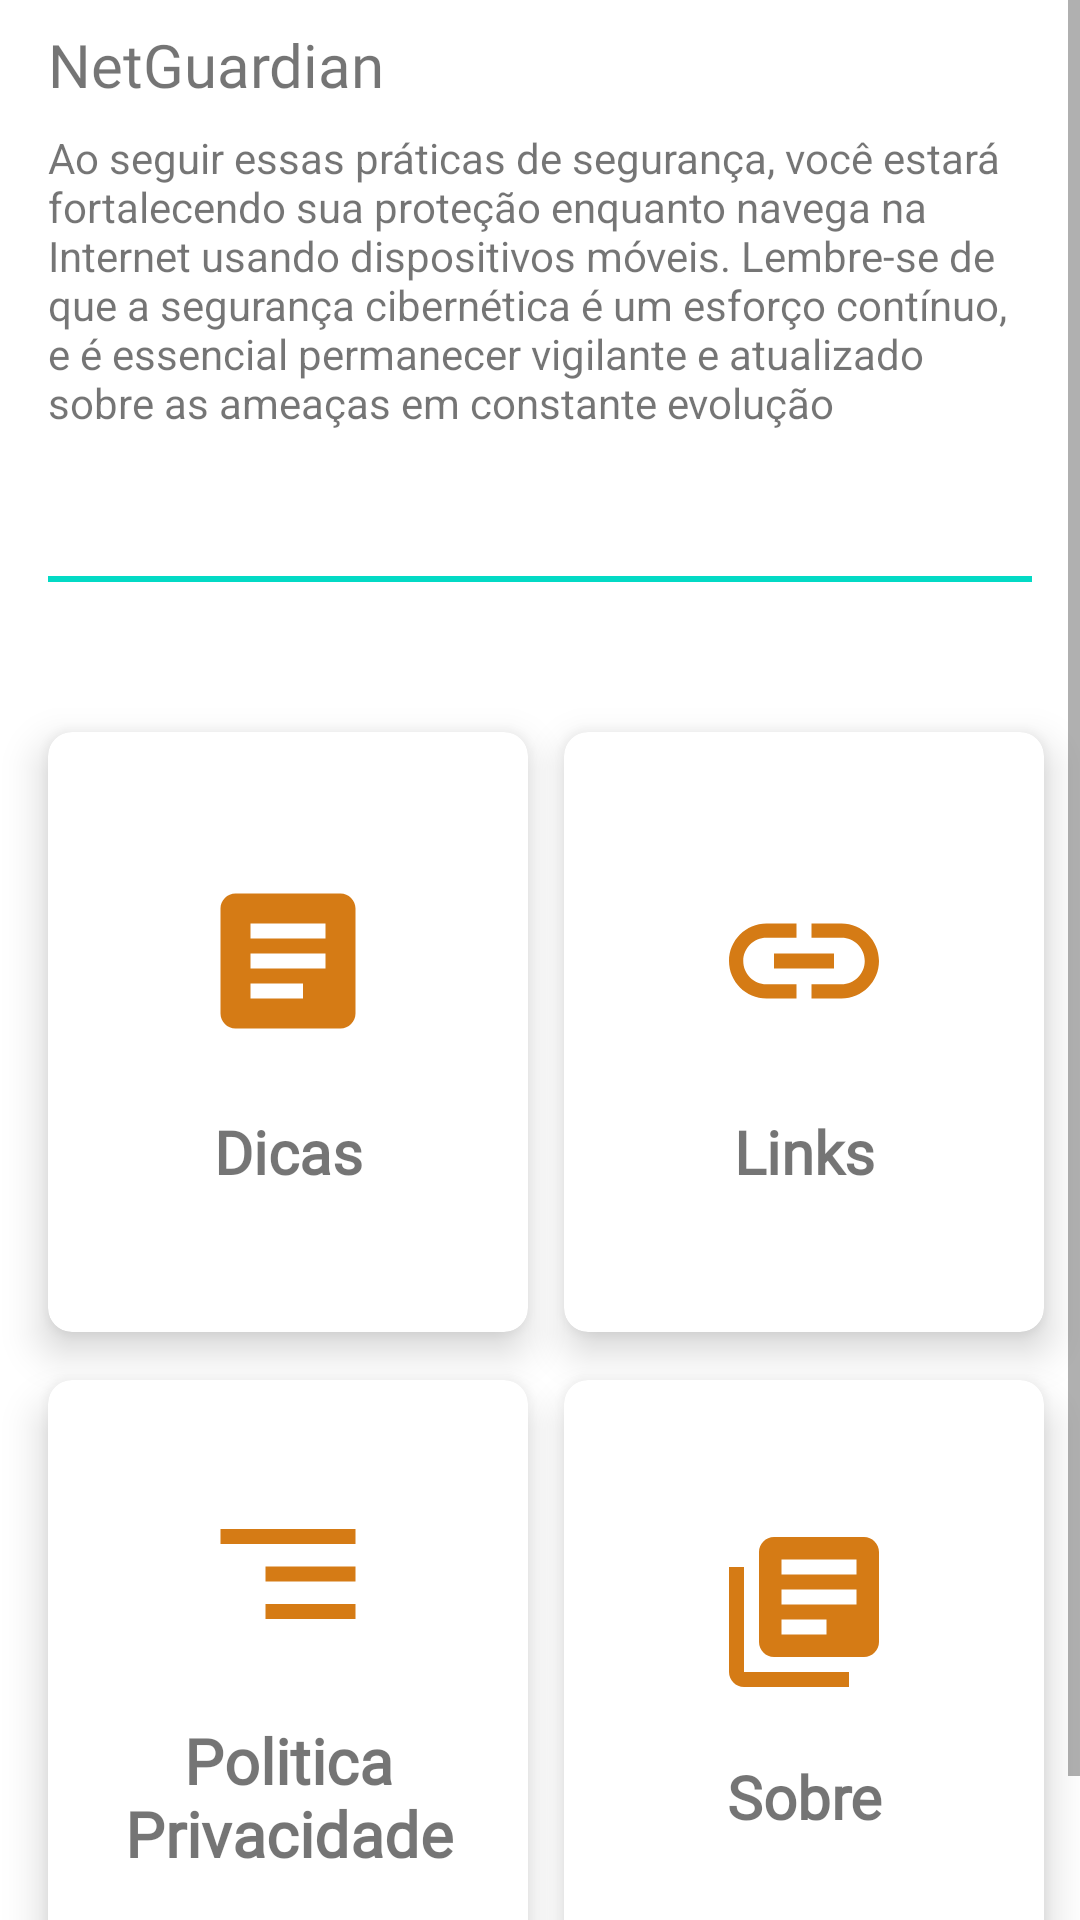

Icon bounding boxes for this 1080px x 1920px phone screenshot, format (x1, y1, x2, y2):
article: (220, 893, 356, 1029)
books: (729, 1537, 879, 1687)
